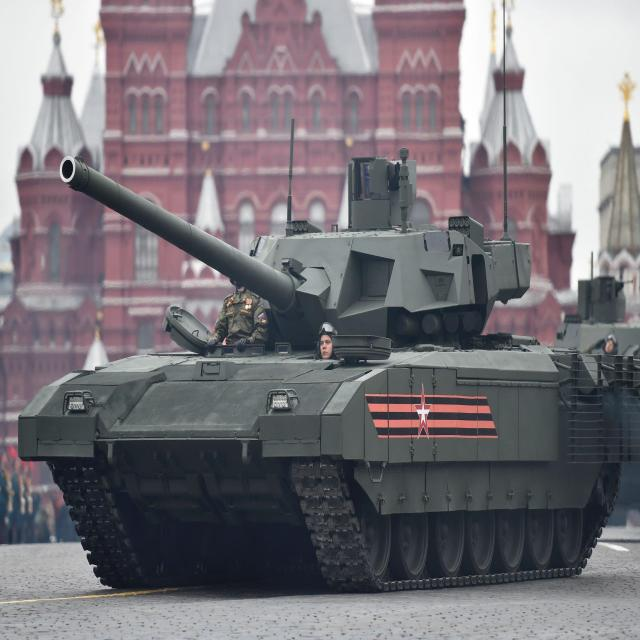Tanks: (26, 116, 574, 582)
